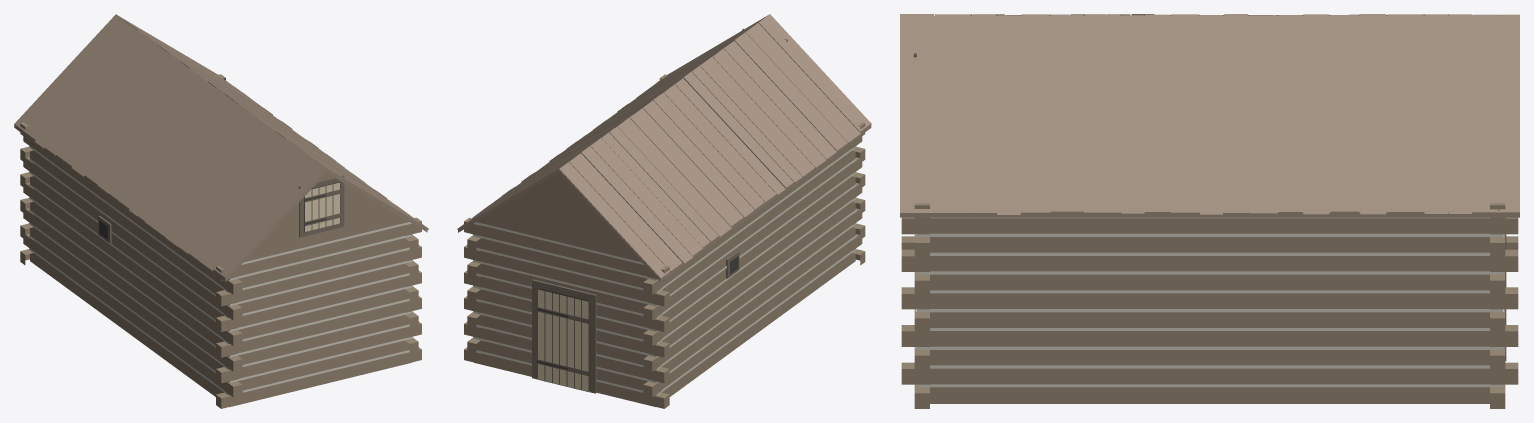
The model's file is recon_1835_blk_randolph_franklin_a1_07__inferred_1835.glb.
3 renders of one model, left to right at view 1: azimuth 30°, elevation 25°; view 2: azimuth 150°, elevation 25°; view 3: azimuth 270°, elevation 25°, orthographic. The views are drawn at different scales.
Visible parts, largest first — view 1: recon_1835_blk_randolph_franklin_a1_07__inferred_1835; view 2: recon_1835_blk_randolph_franklin_a1_07__inferred_1835; view 3: recon_1835_blk_randolph_franklin_a1_07__inferred_1835.
Boxes of the visible parts, x1,y1,x2,y2 form: recon_1835_blk_randolph_franklin_a1_07__inferred_1835: (14,14,428,408); recon_1835_blk_randolph_franklin_a1_07__inferred_1835: (457,14,871,408); recon_1835_blk_randolph_franklin_a1_07__inferred_1835: (900,14,1519,408).
Bounding box in the file's own units: 5.42 × 5.55 × 9.6.
